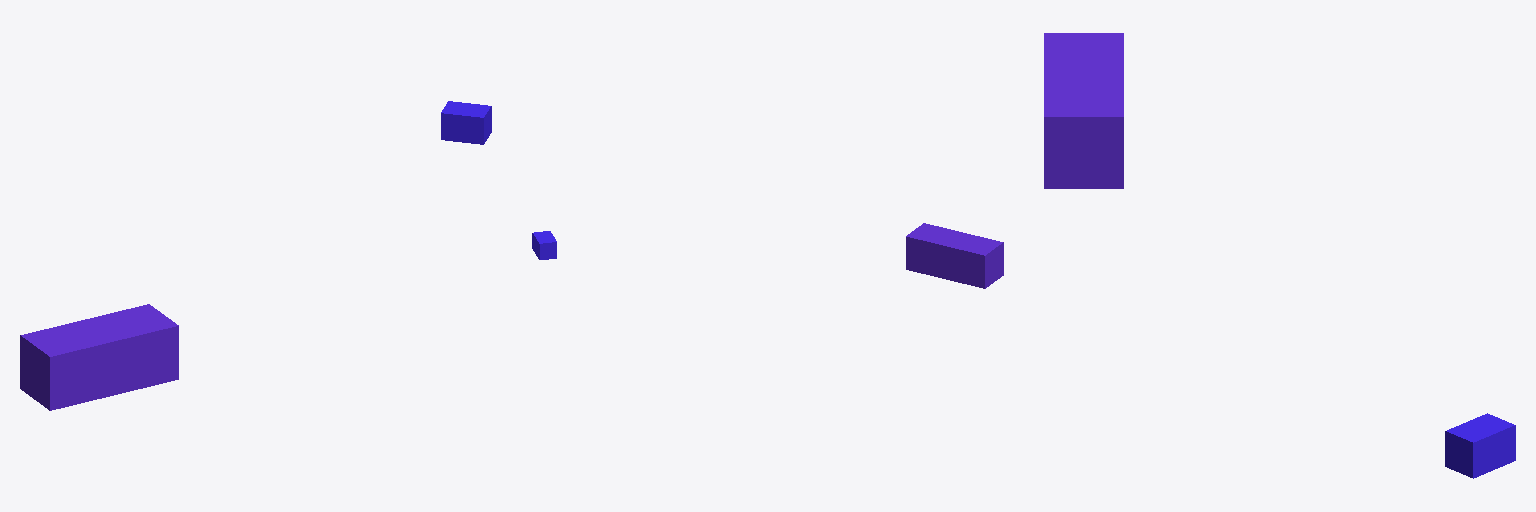
URDF robot description (foxbot):
<?xml version="1.0"?>
<robot name="foxbot">
    <!-- Each frame is defined as a link with a name that defines the 'frame_id' -->
    <link name="base_link">
    <!-- Each link can contain a visual and collision tags -->
        <visual name="">
            <origin xyz="0.0 0.0 0.0" rpy="0.0 0.0 0.0"/>
            <geometry>
                <box size="0.5 0.2 0.2"/>
            </geometry>
            <material name="">
                <color rgba="0.43 0.23 0.9  1.0"/>
            </material>
        </visual>
        <collision>
            <origin xyz="0.0 0.0 0.0" rpy="0.0 0.0 0.0"/>
            <geometry>
                <box size="0.5 0.2 0.2"/>
            </geometry>
        </collision>
    </link>
    <link name="sensor_link">
        <visual name="">
            <origin xyz="0.0 0.0 0.0" rpy="0.0 0.0 0.0"/>
            <geometry>
                <box size="0.15 0.1 0.1"/>
            </geometry>
            <material name="">
                <color rgba="0.3 0.2 1.0 1.0"/>
            </material>
        </visual>
        <collision>
            <origin xyz="0.0 0.0 0.0" rpy="0.0 0.0 0.0"/>
            <geometry>
                <box size="0.15 0.1 0.1"/>
            </geometry>
        </collision>
    </link>
    <!-- A joint represents the transform between two frames (links) 
    In this case, it is a fixed transform that will not change -->
    <joint name="sensor_joint" type="fixed">
        <origin xyz="2 1 0.0" rpy="0.0 0.0 -0.785"/>
        <parent link="base_link"/>
        <child link="sensor_link"/>
    </joint>
    
</robot>

--- What the picture shows (computed from the rendered views, not written in the file) ---
3 views of the same robot in one strip: view 1: azimuth 30°, elevation 25°; view 2: azimuth 150°, elevation 25°; view 3: azimuth 270°, elevation 25° (orthographic).
Model foxbot with 2 links and 1 joints (1 fixed), rooted at base_link, posed all joints at 0.
Visible links, largest first — view 1: base_link, sensor_link; view 2: base_link, sensor_link; view 3: base_link, sensor_link.
Boxes of the visible links, x1,y1,x2,y2 form: base_link: [20, 304, 178, 410]; sensor_link: [441, 101, 491, 144]; base_link: [906, 223, 1003, 288]; sensor_link: [532, 231, 556, 259]; base_link: [1044, 33, 1123, 188]; sensor_link: [1445, 413, 1515, 478].
Bounding box of the posed robot: 2.34 × 1.19 × 0.2 m (x, y, z).
Geometry: primitives only (box / cylinder / sphere), no mesh files.
